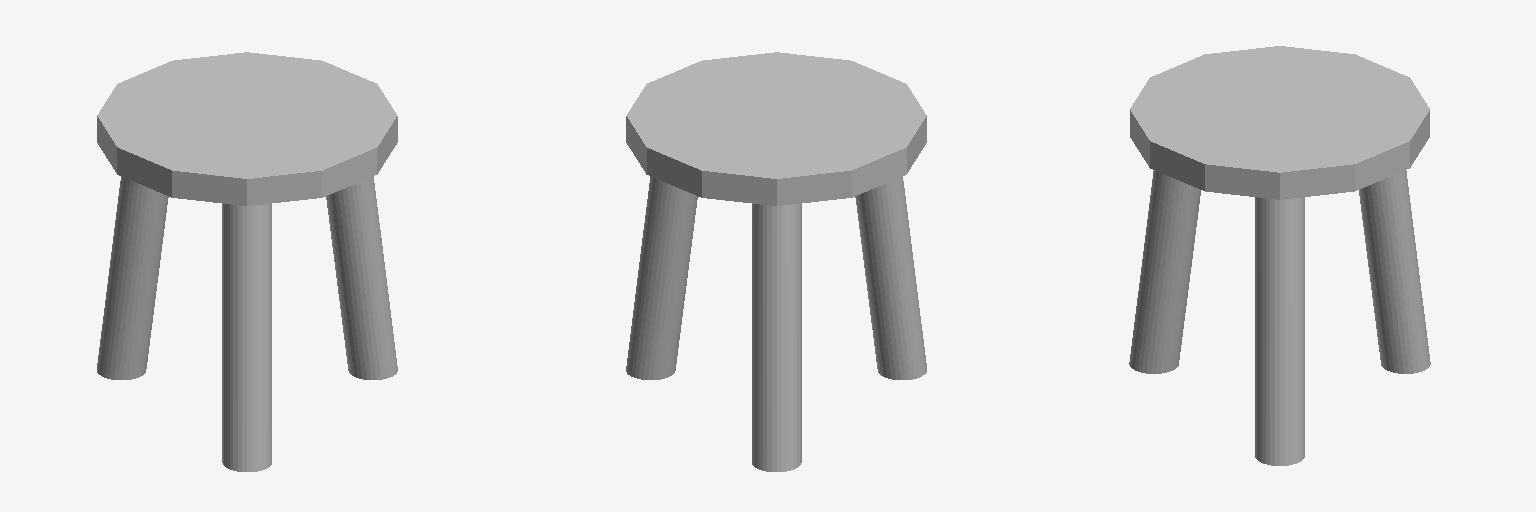
Rendered from medieval_stool_1_001.obj.
3 renders of one model, left to right at view 1: azimuth 30°, elevation 25°; view 2: azimuth 150°, elevation 25°; view 3: azimuth 270°, elevation 25°, orthographic.
Visible parts, largest first — view 1: Stool_Cylinder; view 2: Stool_Cylinder; view 3: Stool_Cylinder.
Boxes of the visible parts, x1=… form: Stool_Cylinder: x1=97, y1=52, x2=397, y2=471; Stool_Cylinder: x1=626, y1=52, x2=926, y2=471; Stool_Cylinder: x1=1129, y1=46, x2=1430, y2=465.
Size of the model in its own units: 0.4107 by 0.403 by 0.3863.